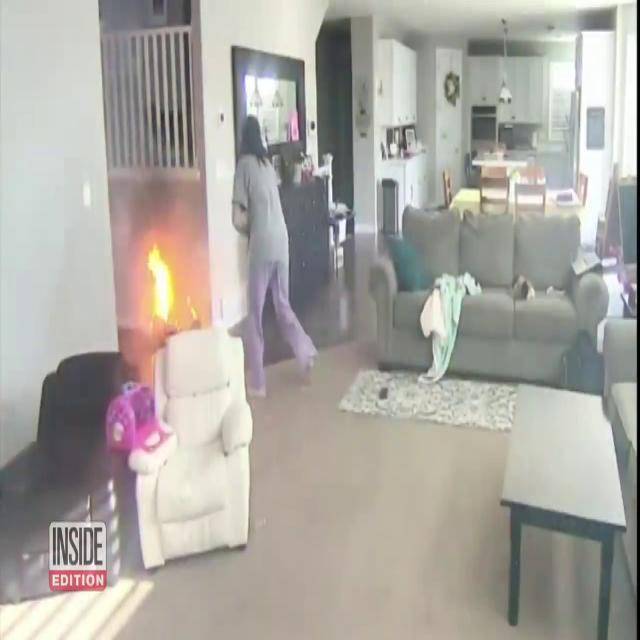Fire: (142, 230, 180, 334)
